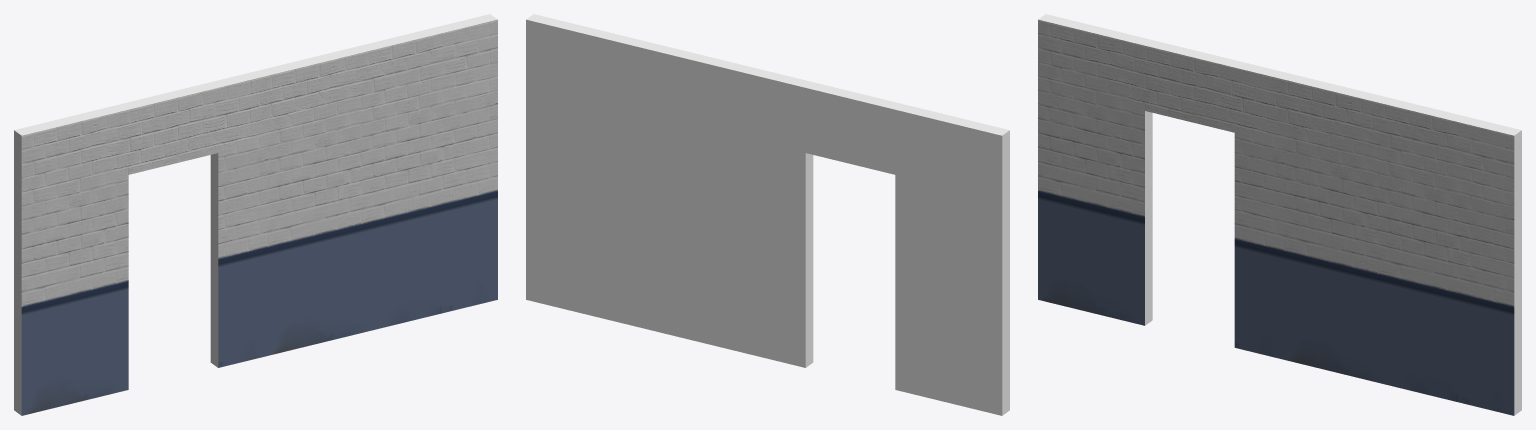
Rendered from Wall 2.FBX.
The picture shows the model from 3 angles, left to right: view 1: azimuth 30°, elevation 25°; view 2: azimuth 150°, elevation 25°; view 3: azimuth 330°, elevation 25°; orthographic projection.
Visible parts, largest first — view 1: Wall 2; view 2: Wall 2; view 3: Wall 2.
Part boxes in pixels (left/top/right/bottom): Wall 2: left=14, top=14, right=497, bottom=415; Wall 2: left=526, top=14, right=1009, bottom=415; Wall 2: left=1038, top=14, right=1521, bottom=415.
Size of the model in its own units: 472 by 266 by 13.24.
2 materials, 1 textured.
